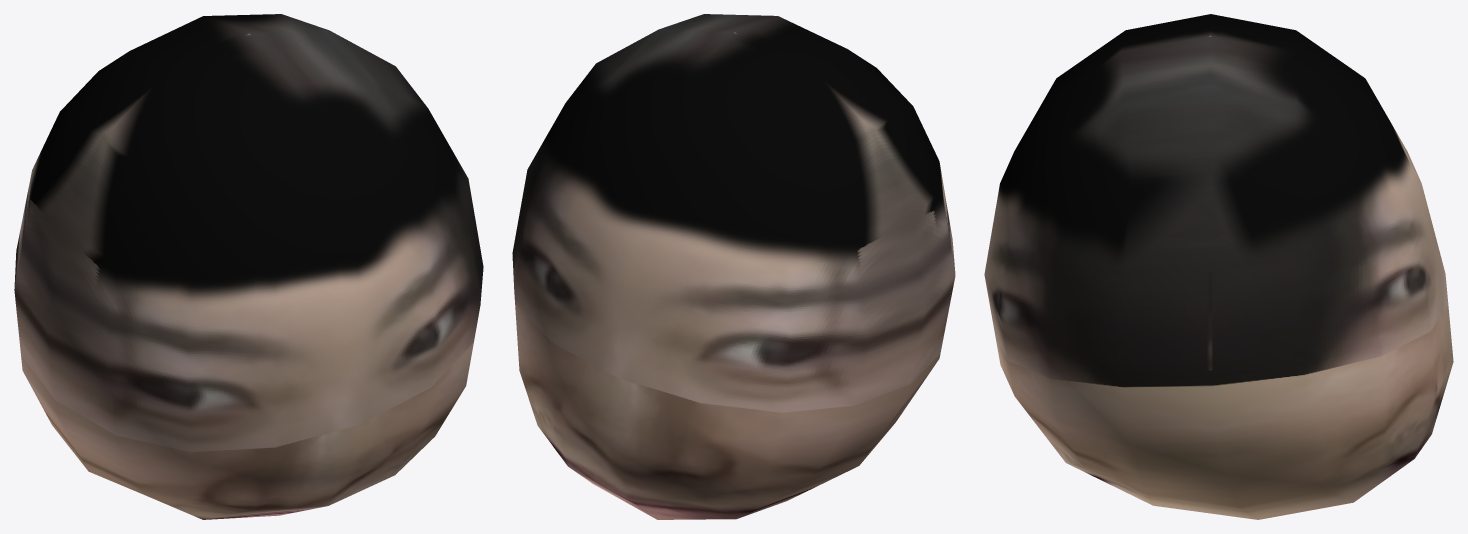
The model's file is head.glb.
3 views of the same model, side by side, from view 1: azimuth 30°, elevation 25°; view 2: azimuth 150°, elevation 25°; view 3: azimuth 270°, elevation 25° (orthographic). The views are drawn at different scales.
Parts seen in each view (by area): view 1: Cube; view 2: Cube; view 3: Cube.
Boxes of the visible parts, <box> form: Cube: <box>14,14,483,519</box>; Cube: <box>512,14,955,519</box>; Cube: <box>984,14,1453,519</box>.
Size of the model in its own units: 4.52 by 5.07 by 4.68.
Materials: 1 (1 with a texture image).
